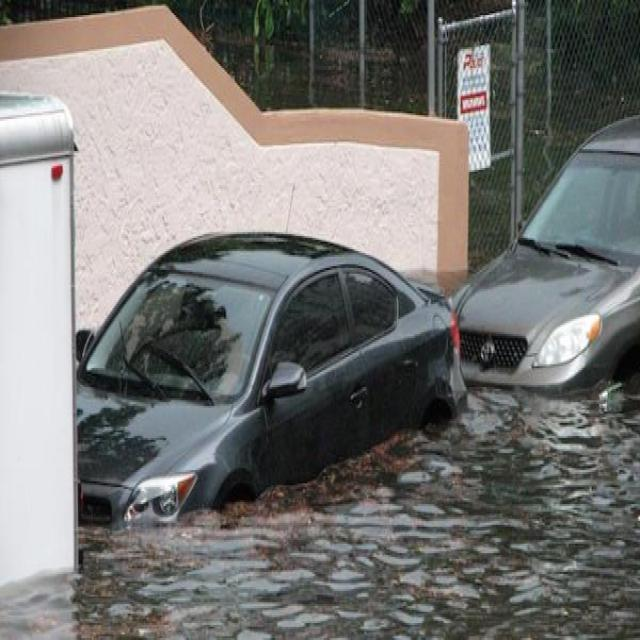water: (3, 379, 638, 635)
